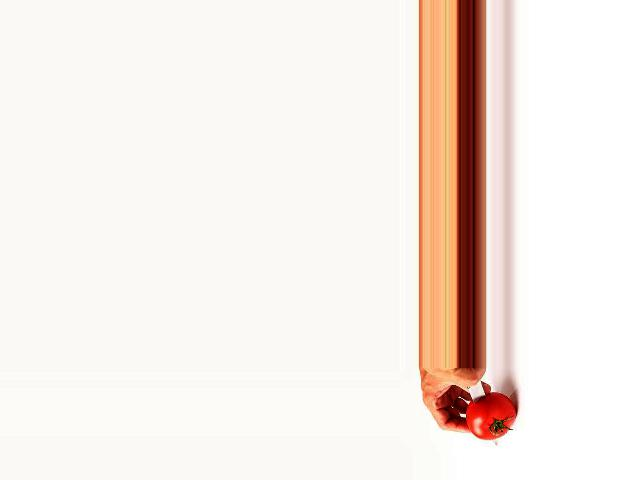tomato: (465, 392, 515, 439)
